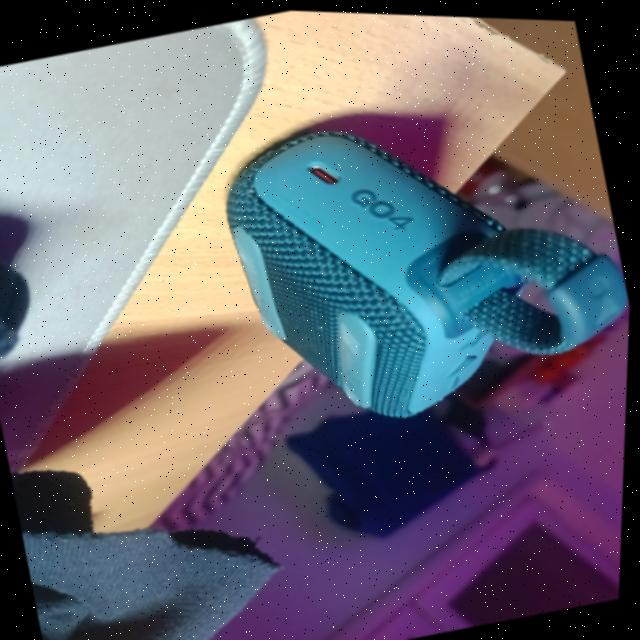column JBL: (202, 57, 639, 454)
